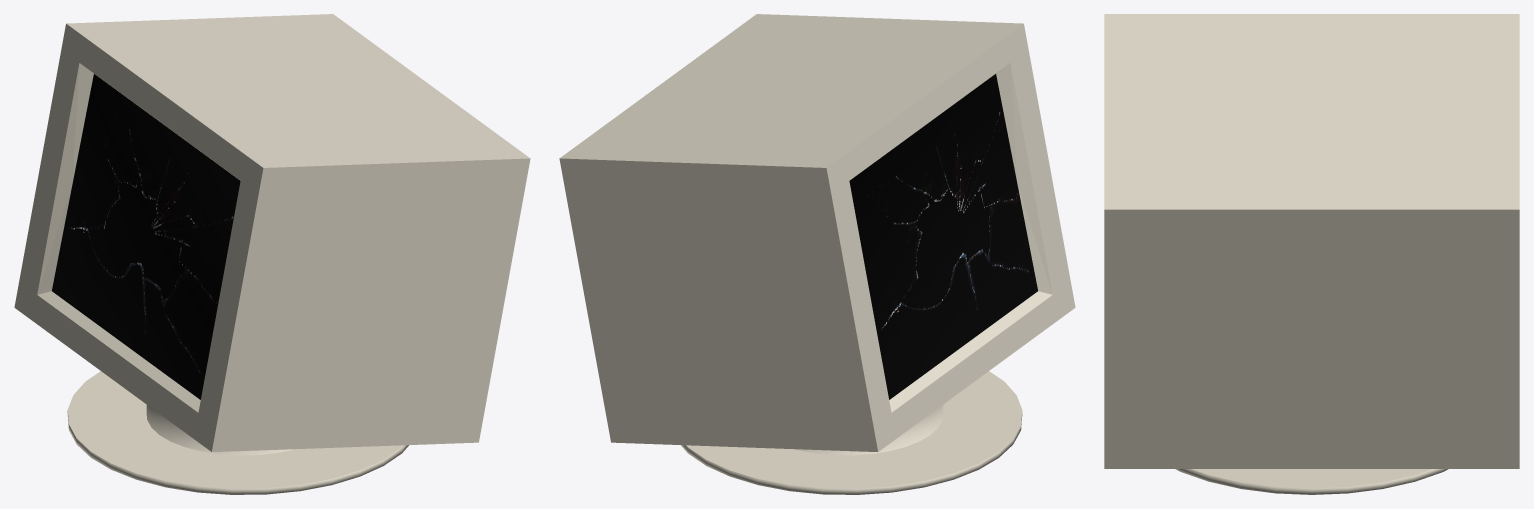
File: Computer CRT.fbx
3 views of the same model, side by side, from view 1: azimuth 30°, elevation 25°; view 2: azimuth 150°, elevation 25°; view 3: azimuth 270°, elevation 25° (orthographic). The views are drawn at different scales.
Parts seen in each view (by area): view 1: Cube; view 2: Cube; view 3: Cube.
Part boxes in pixels (bbox=[...]): Cube: bbox=[14, 14, 530, 494]; Cube: bbox=[559, 14, 1075, 494]; Cube: bbox=[1104, 14, 1519, 494].
Size of the model in its own units: 404 by 390 by 405.
1 material, 1 textured.
